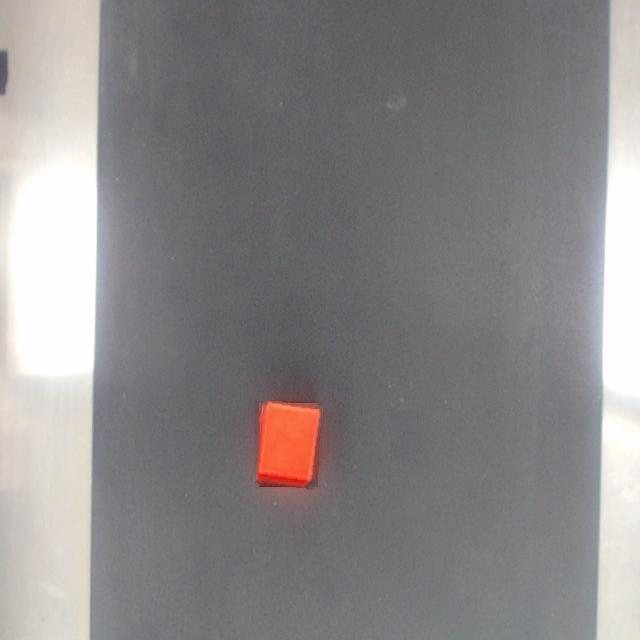Rojo: (256, 402, 322, 489)
